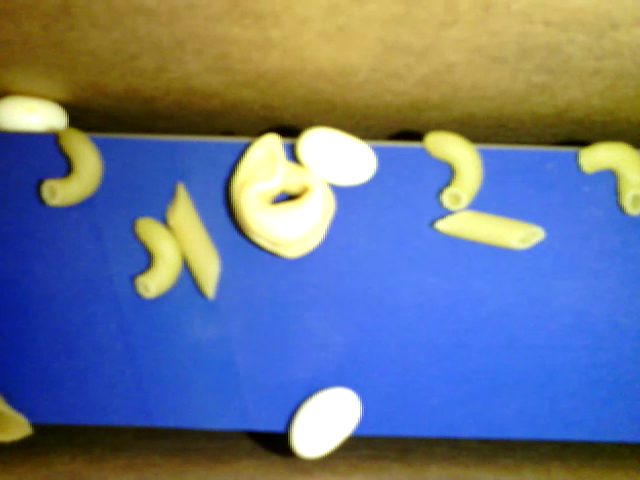elbow: (421, 129, 485, 209), (41, 128, 104, 205), (578, 141, 639, 217), (133, 215, 182, 300)
penne: (164, 181, 221, 300), (429, 209, 546, 250)
tortellini: (227, 129, 336, 259)
